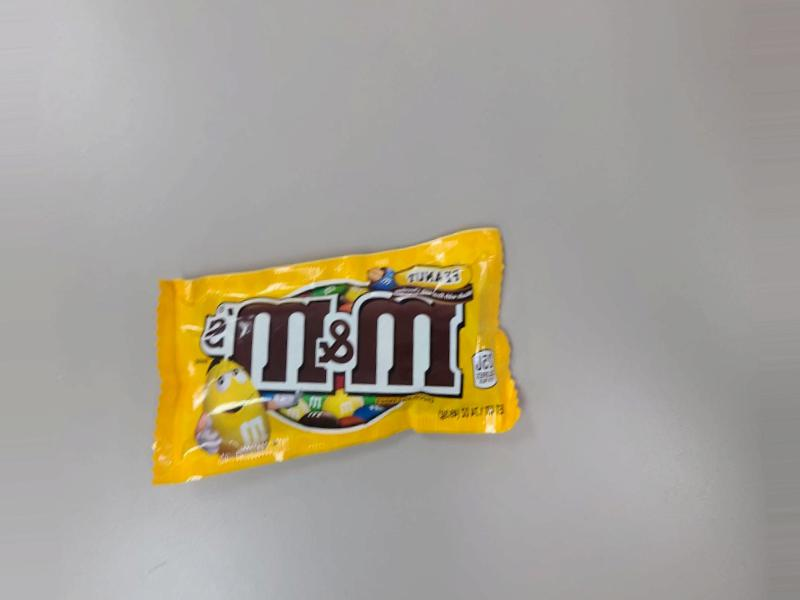m&m: (156, 220, 534, 468)
